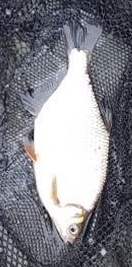Blicca bjoerkna: (20, 20, 112, 247)
